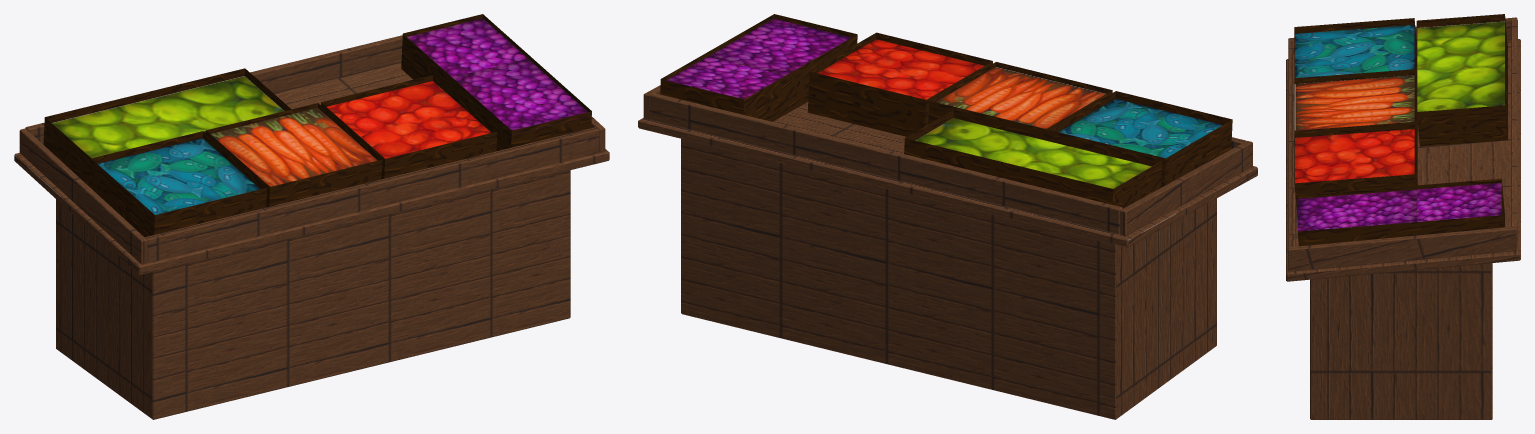
Rendered from FRM0510005.fbx.
3 renders of one model, left to right at view 1: azimuth 30°, elevation 25°; view 2: azimuth 150°, elevation 25°; view 3: azimuth 270°, elevation 25°, orthographic. The views are drawn at different scales.
Parts seen in each view (by area): view 1: smFRM0510005; view 2: smFRM0510005; view 3: smFRM0510005.
Boxes of the visible parts, x1=… form: smFRM0510005: x1=14, y1=14, x2=609, y2=419; smFRM0510005: x1=638, y1=14, x2=1257, y2=419; smFRM0510005: x1=1286, y1=14, x2=1520, y2=419.
Bounding box in the file's own units: 210 × 97 × 96.72.
Materials: 1 (1 with a texture image).
